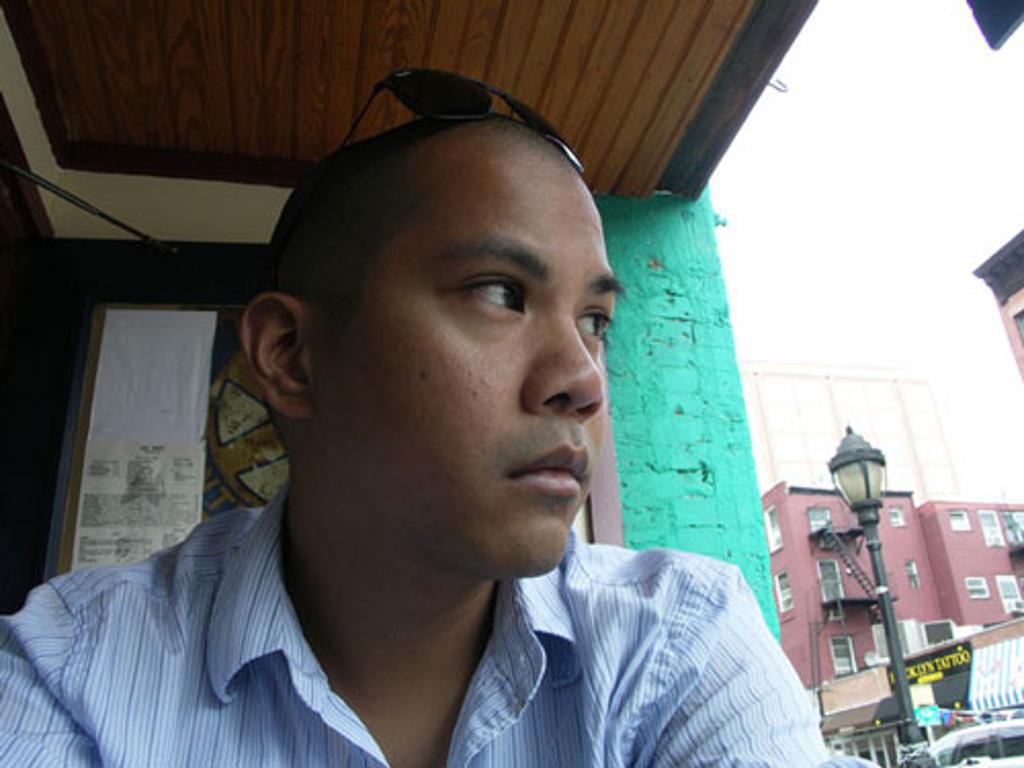face: (321, 133, 613, 565)
